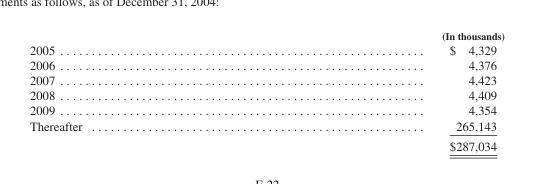table: (28, 29, 503, 152)
table column: (261, 29, 503, 152), (28, 29, 261, 152)
table column header: (28, 29, 503, 41)
table row: (28, 117, 503, 135), (28, 135, 503, 152), (28, 41, 503, 57), (28, 57, 503, 72), (28, 72, 503, 87), (28, 87, 503, 102), (28, 102, 503, 117), (28, 29, 503, 41)
